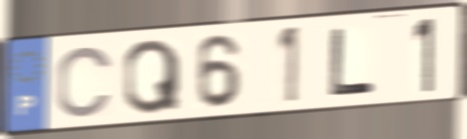1: (274, 23, 303, 107), (411, 14, 436, 95)
6: (194, 32, 246, 111)
C: (54, 43, 116, 121)
L: (327, 25, 379, 100)
Q: (120, 36, 184, 117)
